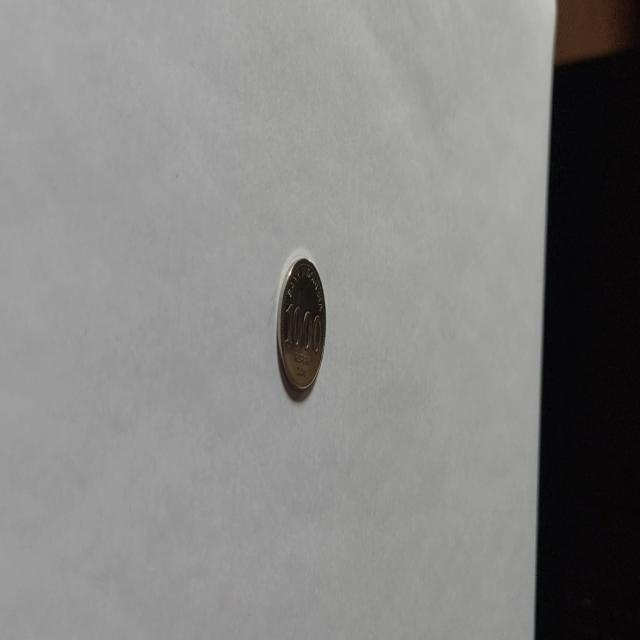seribu rupiah koin: (275, 252, 327, 398)
